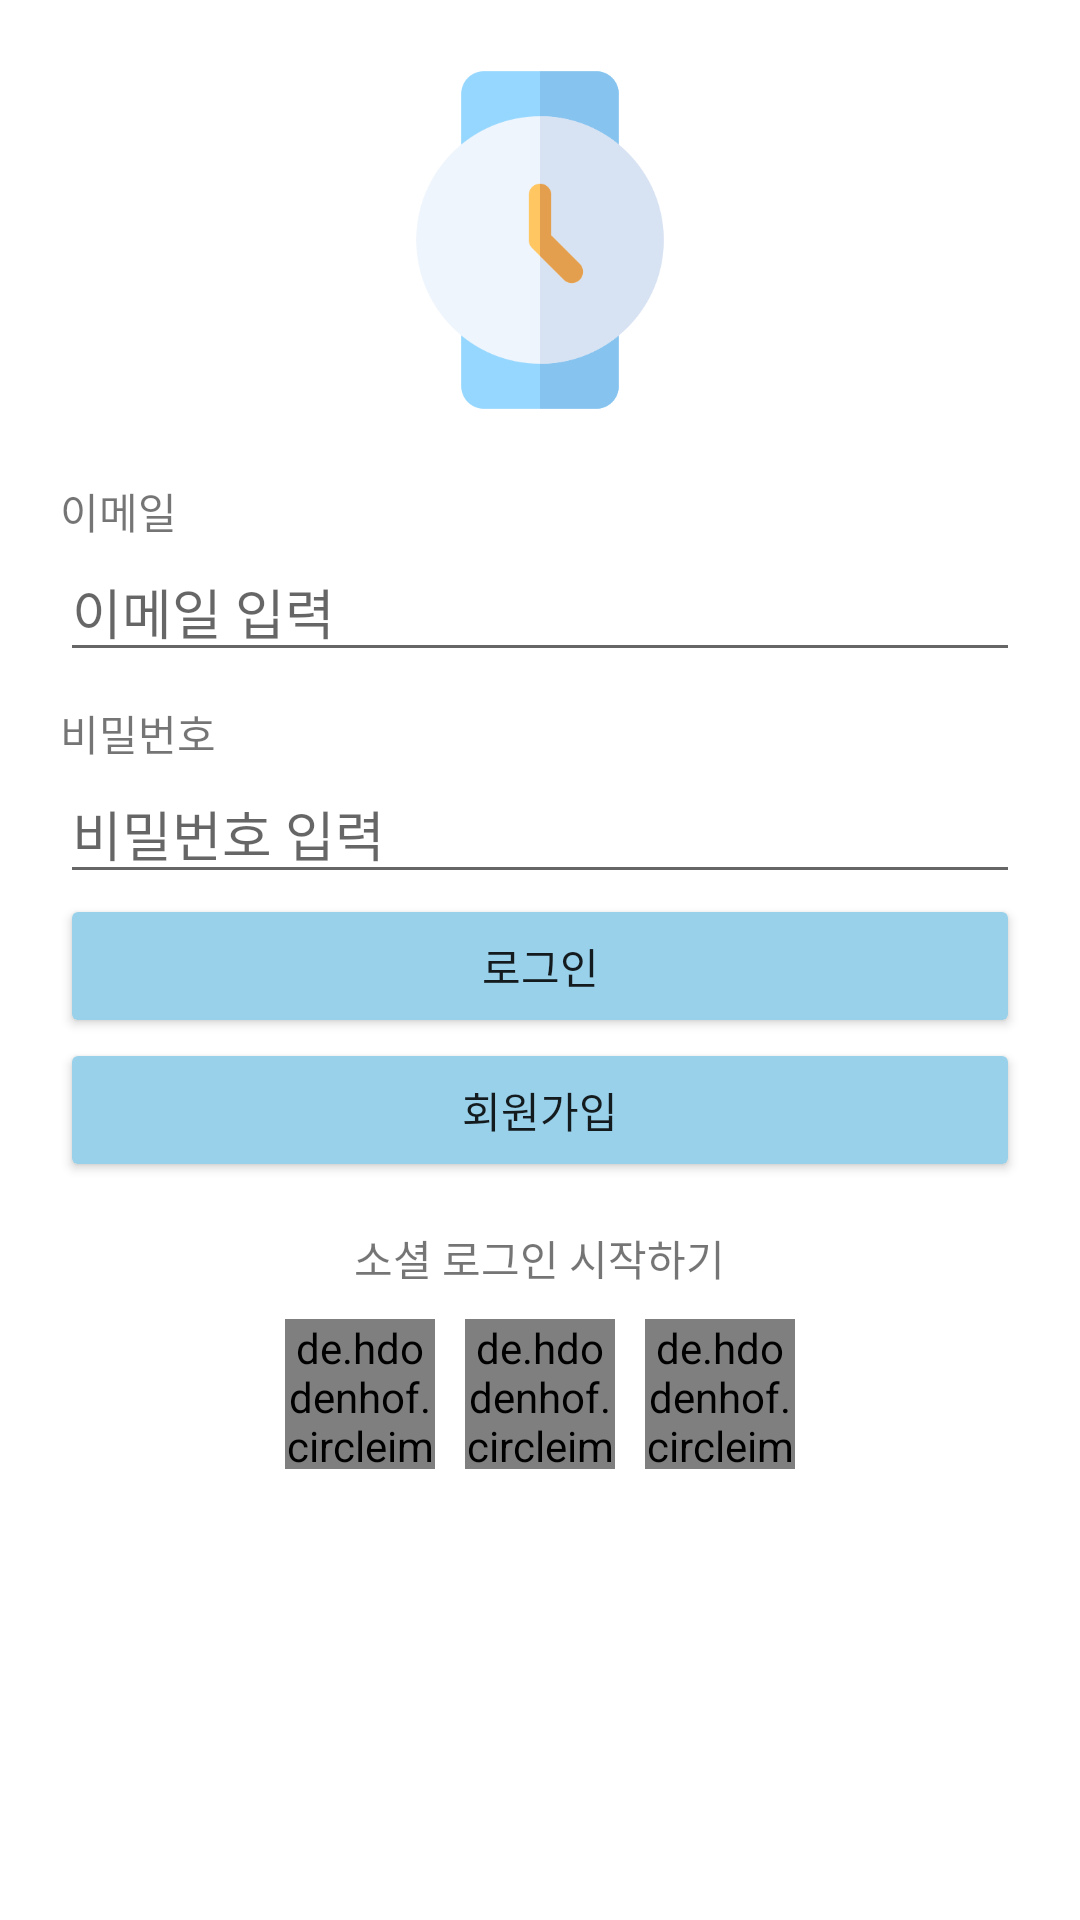

Named icons in this screenshot (1080 × 1920) and their bounding boxes, (x1, y1, x2, y2):
clock: (461, 71, 664, 409)
